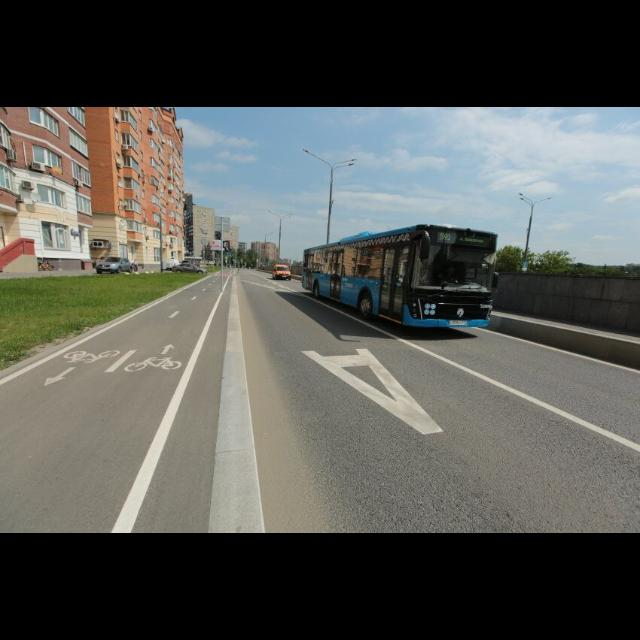road: (239, 270, 639, 532)
